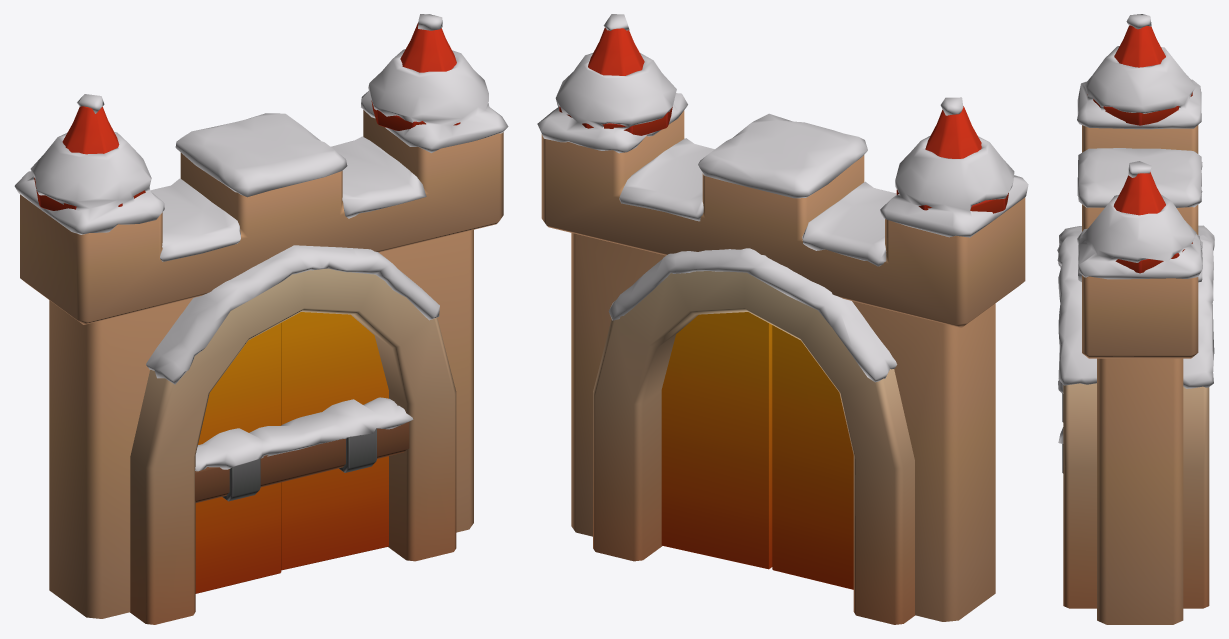
Rendered from EntranceSnowy_1.fbx.
3 renders of one model, left to right at view 1: azimuth 30°, elevation 25°; view 2: azimuth 150°, elevation 25°; view 3: azimuth 270°, elevation 25°, orthographic. The views are drawn at different scales.
Visible parts, largest first — view 1: EntranceSnowy_1, EntranceDoor_1.002, EntranceDoor_2.002, Woodenlocker_1.002; view 2: EntranceSnowy_1, EntranceDoor_1.002, EntranceDoor_2.002; view 3: EntranceSnowy_1, Woodenlocker_1.002.
Part boxes in pixels (x1,y1,x2,y2): EntranceSnowy_1: (14, 14, 508, 624); EntranceDoor_1.002: (281, 312, 388, 570); EntranceDoor_2.002: (195, 323, 281, 593); Woodenlocker_1.002: (195, 397, 413, 502); EntranceSnowy_1: (537, 14, 1028, 624); EntranceDoor_1.002: (661, 312, 772, 569); EntranceDoor_2.002: (772, 325, 853, 589); EntranceSnowy_1: (1057, 14, 1214, 624); Woodenlocker_1.002: (1058, 380, 1063, 473).
Size of the model in its own units: 456 by 488 by 155.
